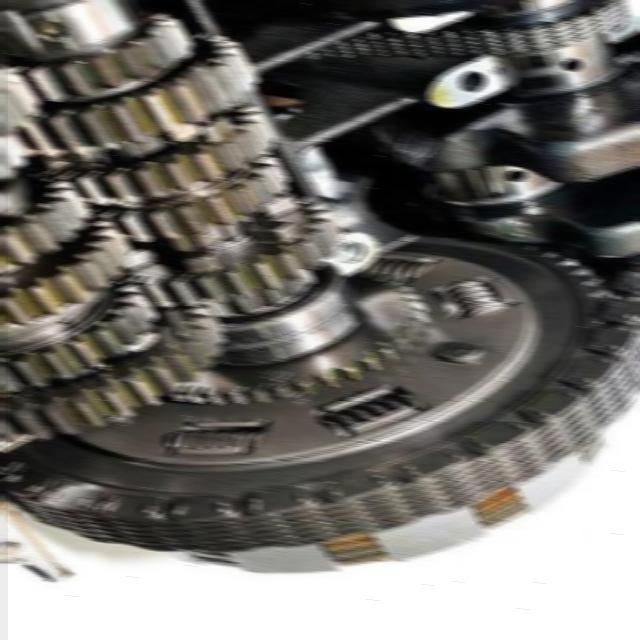Bearing: (210, 263, 360, 367)
Gear: (164, 266, 426, 404), (1, 302, 226, 444), (19, 33, 258, 158), (69, 100, 268, 208), (163, 190, 341, 310), (0, 269, 157, 392), (21, 9, 194, 104), (115, 153, 288, 245), (0, 216, 131, 328), (0, 168, 89, 274)
